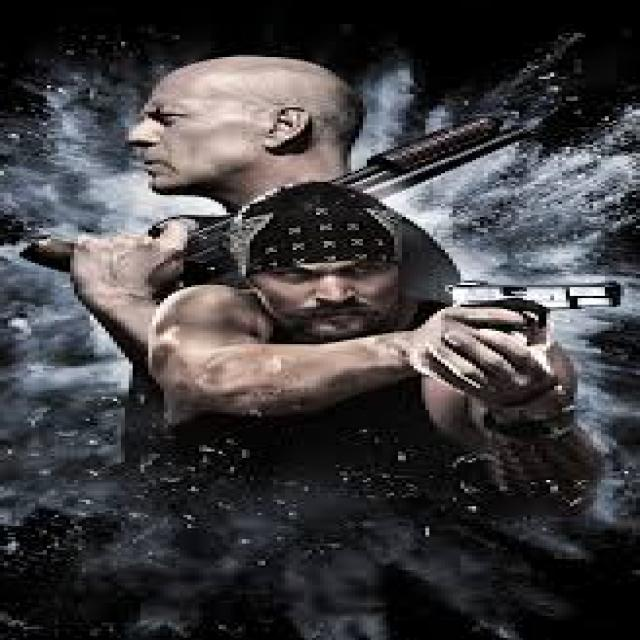gun: (22, 103, 608, 283), (427, 274, 638, 368)
